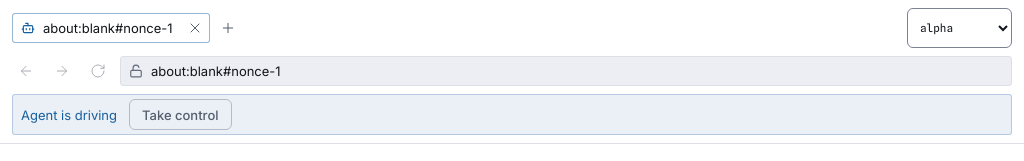
it: BrowserPage › agent tabs › shows the driving bar only while the agent tab is active
Expected: the element showing "about:blank#nonce-1" is shown, [12,13,210,43]
Expected: the text "Agent is driving" is shown, [21,105,117,125]
Click the button named "New tab" at (228, 28), box [214,14,242,42]
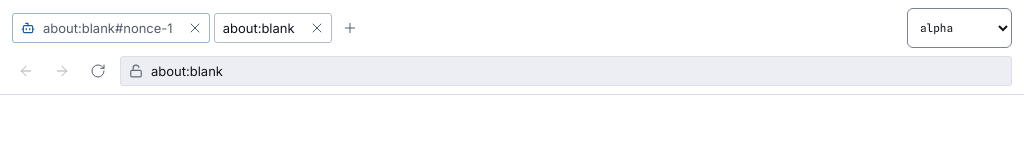
Result: the text "Agent is driving" is gone
